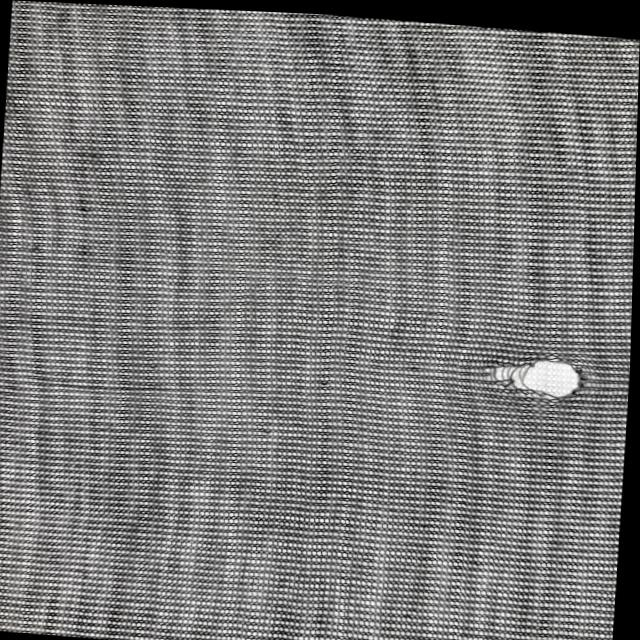Hole: (472, 337, 598, 420)
